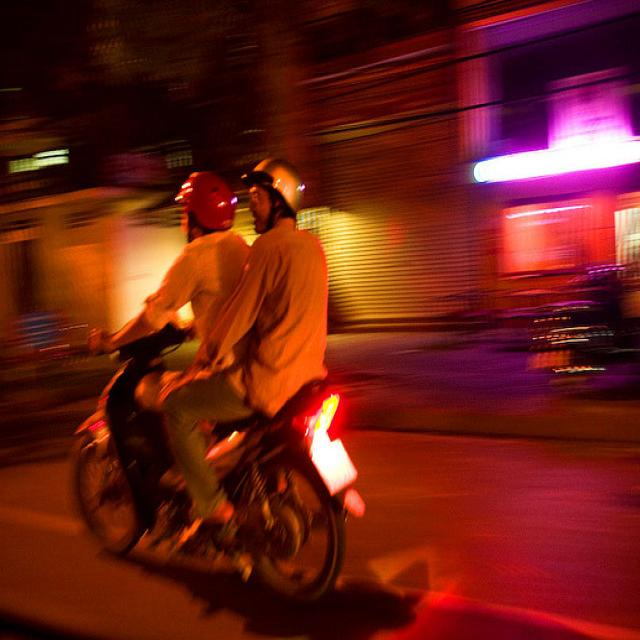Motorbike: (90, 302, 407, 606), (517, 261, 640, 400)
